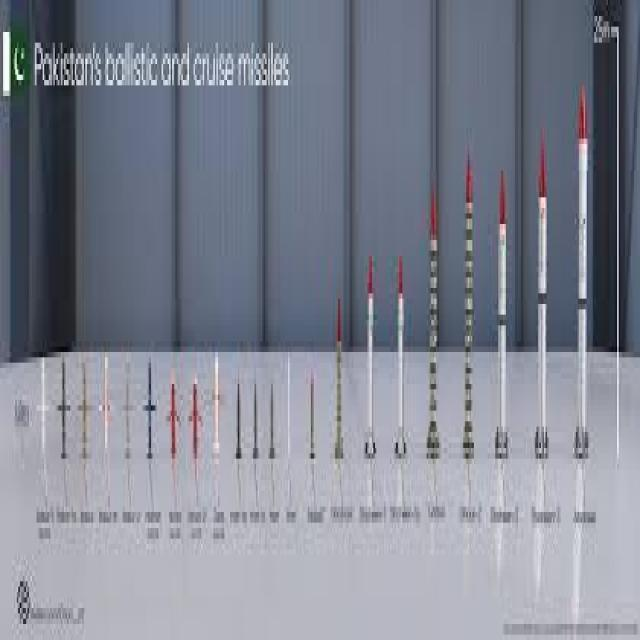missile: (492, 137, 513, 463), (576, 71, 592, 465), (534, 119, 550, 474), (462, 143, 476, 457)
